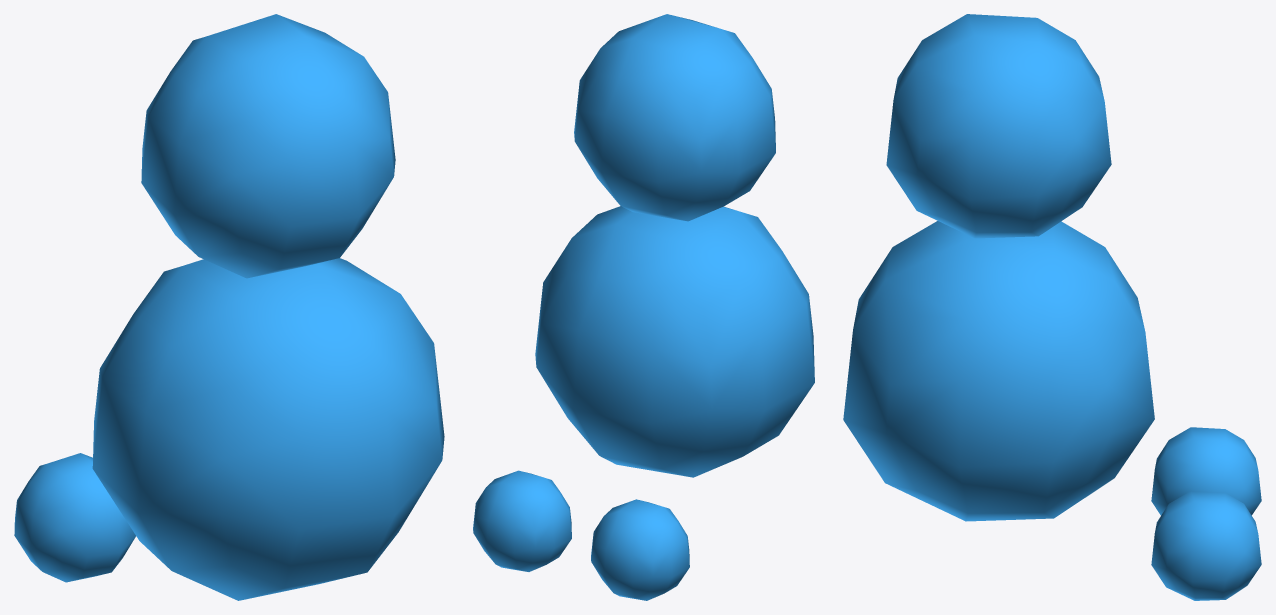
The model's file is BodySitting.fbx.
3 views of the same model, side by side, from view 1: azimuth 30°, elevation 25°; view 2: azimuth 150°, elevation 25°; view 3: azimuth 270°, elevation 25° (orthographic). The views are drawn at different scales.
Visible parts, largest first — view 1: Body_Sitting; view 2: Body_Sitting; view 3: Body_Sitting.
Boxes of the visible parts, left/top/right/bottom form: Body_Sitting: left=14, top=14, right=444, bottom=600; Body_Sitting: left=473, top=14, right=814, bottom=600; Body_Sitting: left=843, top=14, right=1261, bottom=600.
Bounding box in the file's own units: 2.77 × 2.07 × 3.94.
